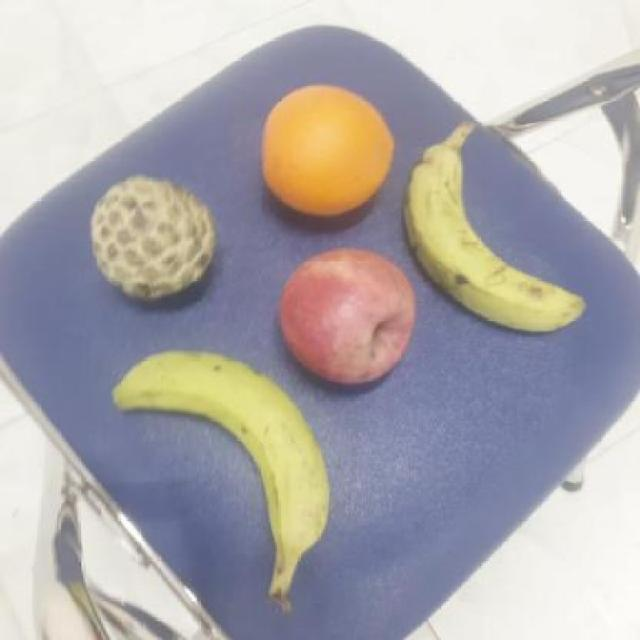apple: (270, 243, 419, 386)
banana: (104, 346, 347, 566), (406, 137, 596, 331)
oren: (255, 82, 394, 222)
sugar apple: (87, 176, 224, 307)
